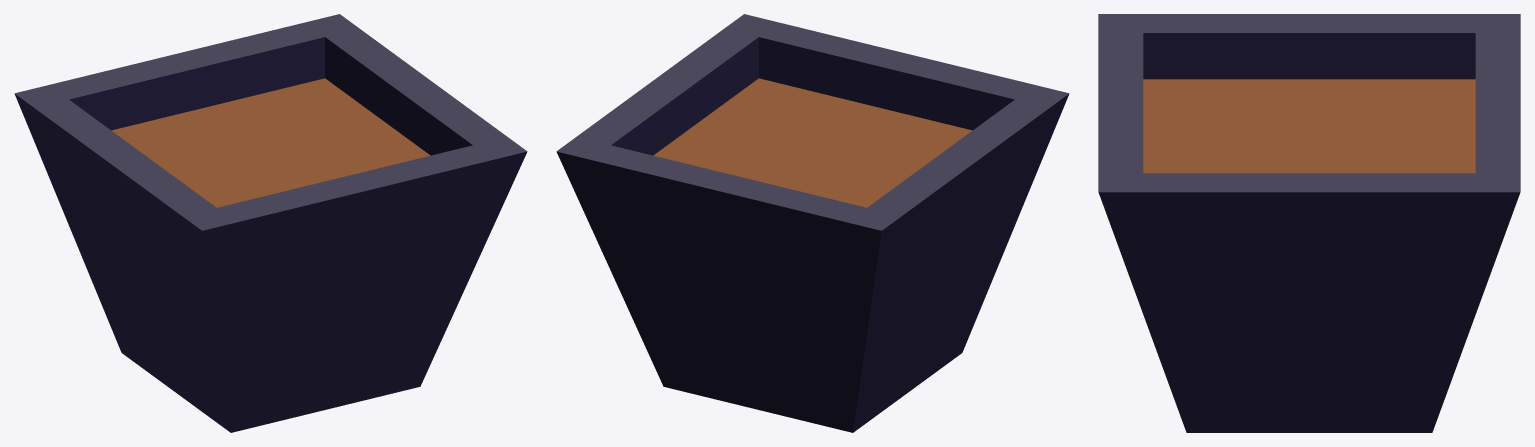
The model's file is pot1.fbx.
The picture shows the model from 3 angles, left to right: view 1: azimuth 30°, elevation 25°; view 2: azimuth 150°, elevation 25°; view 3: azimuth 270°, elevation 25°; orthographic projection. The views are drawn at different scales.
Visible parts, largest first — view 1: pot1; view 2: pot1; view 3: pot1.
Part boxes in pixels (left/top/right/bottom): pot1: left=14, top=14, right=527, bottom=432; pot1: left=556, top=14, right=1069, bottom=432; pot1: left=1098, top=14, right=1520, bottom=432.
Size of the model in its own units: 20.14 by 14.63 by 20.14.
